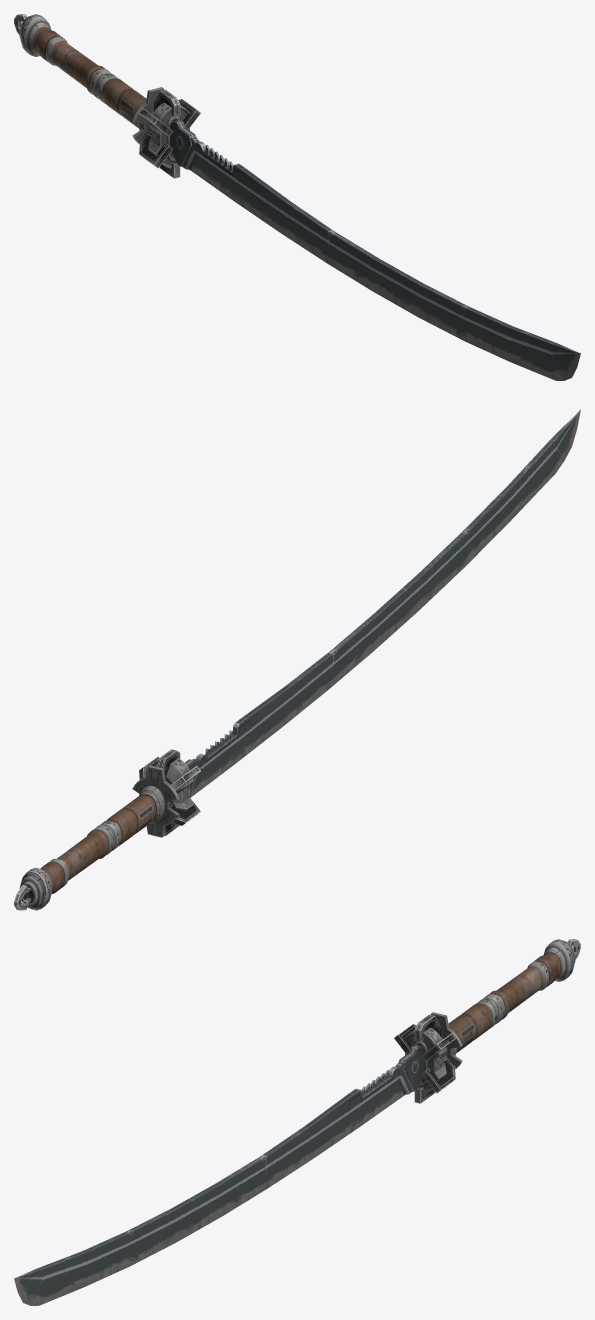
The model's file is enemy_sword_elite_katana.glb.
3 renders of one model, top to bottom at view 1: azimuth 30°, elevation 25°; view 2: azimuth 150°, elevation 25°; view 3: azimuth 330°, elevation 25°, orthographic.
Parts seen in each view (by area): view 1: katana; view 2: katana; view 3: katana.
Part boxes in pixels (box(x1,y1,x2,y2)): katana: box(14, 14, 580, 380); katana: box(14, 409, 580, 910); katana: box(14, 939, 580, 1305).
Bounding box in the file's own units: 0.0544 × 0.1322 × 1.13.
Materials: 1 (1 with a texture image).
